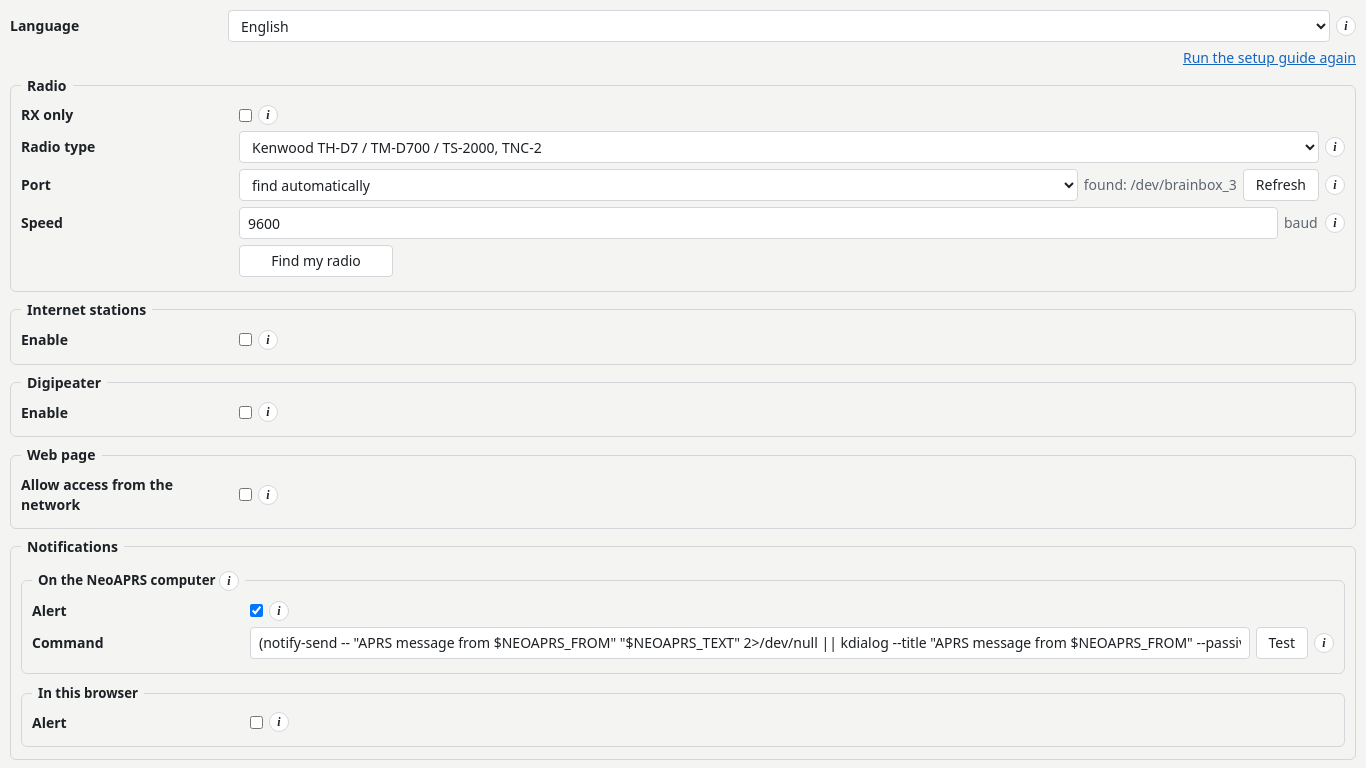
it: the Internet stations group of the Settings tab › says in its (i), in one line, what it shows and that nothing is sent
Click the button with class "info-toggle" below "Internet stations". click: (268, 340)
box: [258,330,278,350]
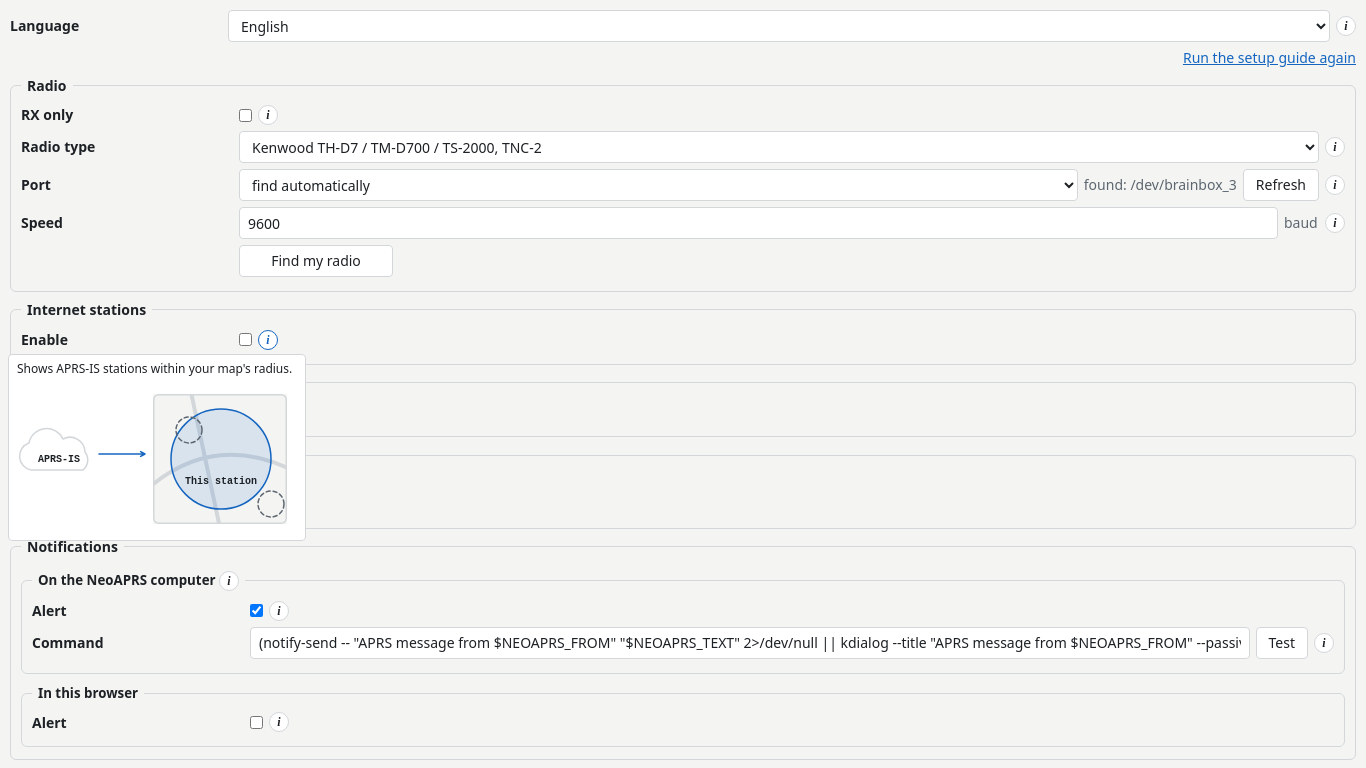
Check: the elements with class "info-line" read "Shows APRS-IS stations within your map's radius.", in this order, box [17,361,297,378]
